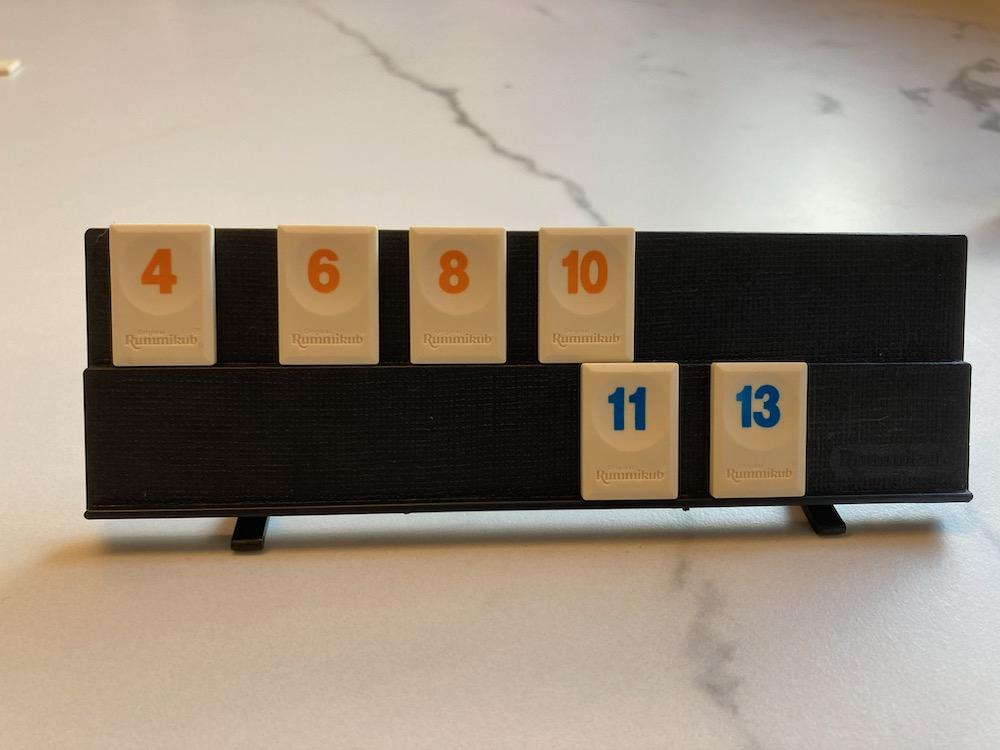blue_11: (582, 364, 678, 498)
blue_13: (711, 364, 807, 496)
orange_10: (539, 229, 635, 361)
orange_4: (109, 225, 217, 365)
orange_6: (279, 225, 378, 363)
orange_8: (410, 227, 506, 363)
